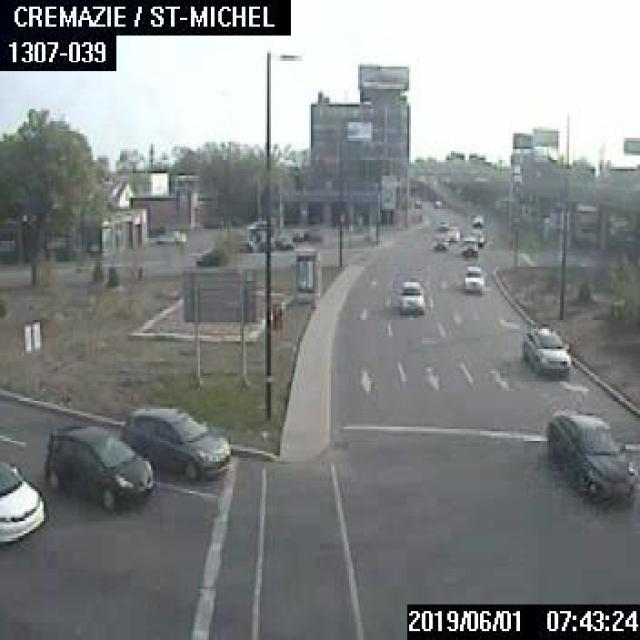vehicle: (42, 419, 153, 512), (120, 404, 230, 482), (544, 407, 634, 498), (0, 456, 44, 546), (520, 320, 569, 373), (396, 279, 424, 313), (461, 262, 484, 291), (195, 246, 227, 265), (153, 228, 185, 244), (434, 207, 449, 231), (461, 236, 477, 256), (468, 227, 483, 246), (431, 232, 447, 248), (446, 224, 459, 240), (470, 212, 482, 226)
